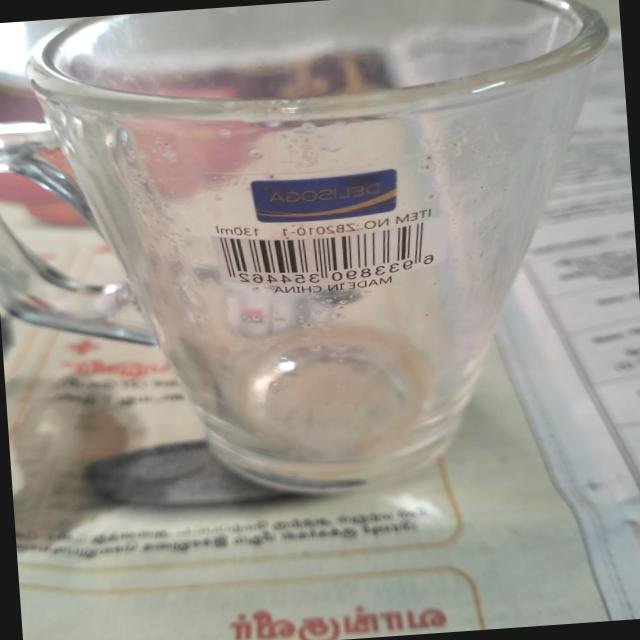glass-VX4N: (0, 0, 639, 519)
